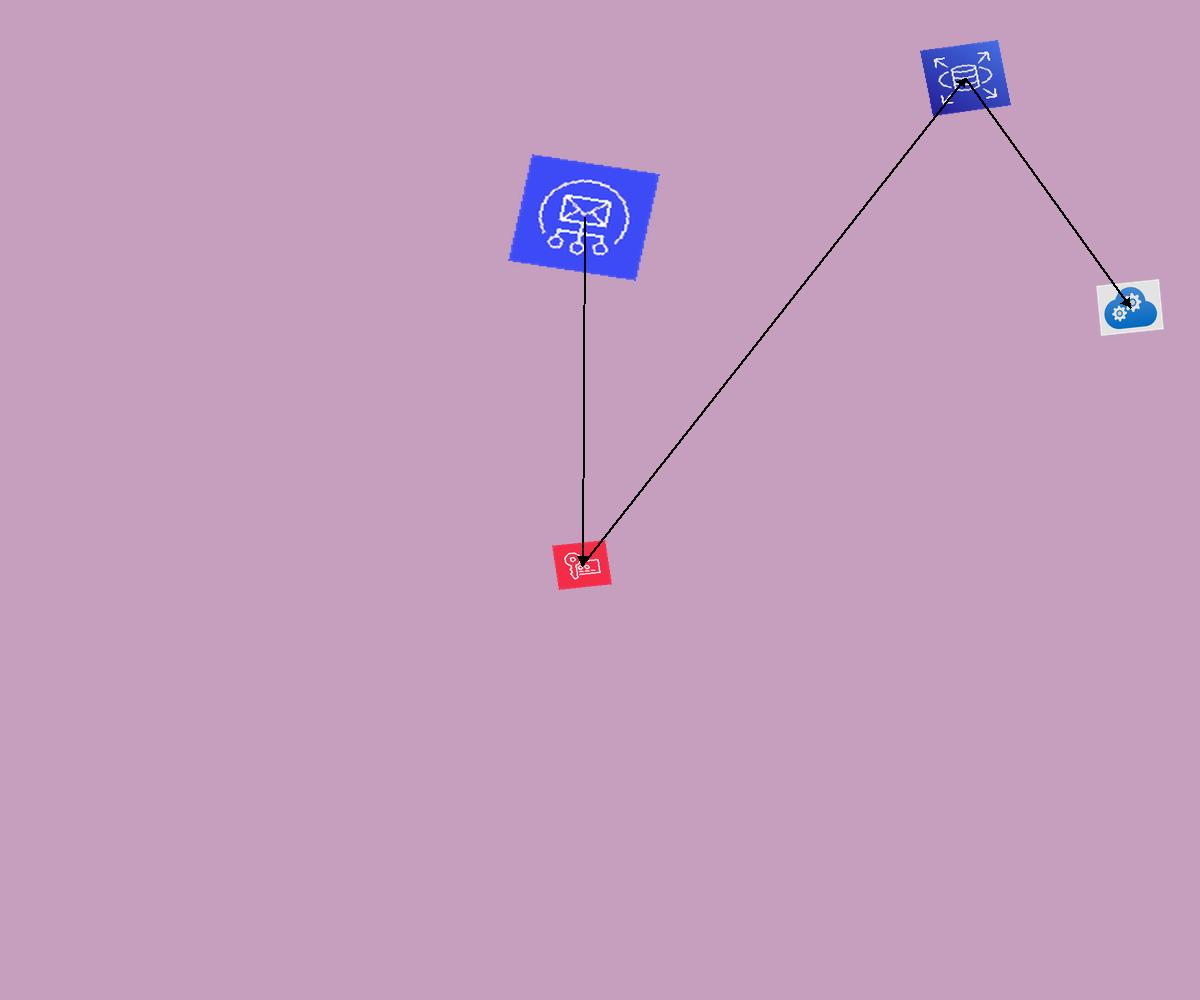AWS-Key-Management-Service: (552, 540, 612, 590)
AWS-RDS: (920, 40, 1011, 116)
AWS-Simple-Email-Service: (508, 154, 660, 281)
Azure_cloud_services: (1096, 279, 1164, 336)
